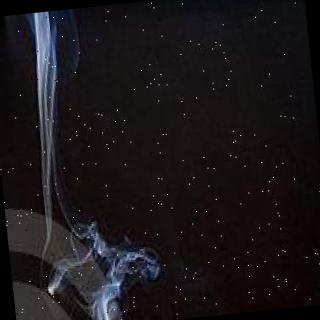smoke: (38, 199, 167, 320)
